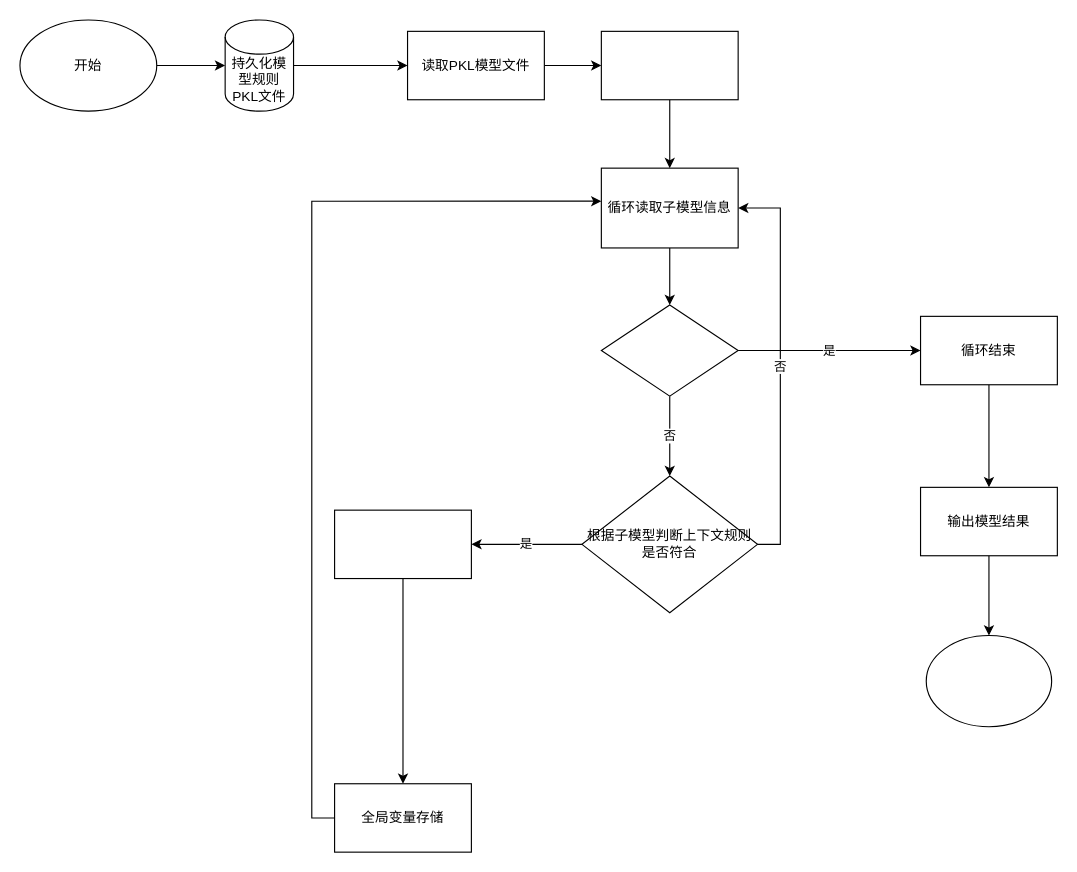
This 1077x872 diagram has some shape labels left out. The shapes that lost their labels are listed below. From the top down, each one's box as (x1, y1, x2, y2) in pixels, then its label:
(600, 30, 738, 100): 传入流日志信息，执行模型识别函数
(600, 304, 738, 396): 循环是否完毕
(333, 509, 471, 579): 根据模型规则识别当前流日志信息
(925, 634, 1052, 727): 结束
